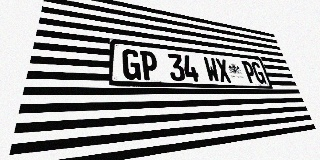3: (167, 53, 186, 81)
4: (182, 55, 200, 82)
G: (122, 49, 141, 80), (250, 62, 267, 84)
P: (140, 50, 159, 80), (241, 61, 258, 83)
W: (203, 57, 221, 82)
X: (215, 58, 232, 83)
